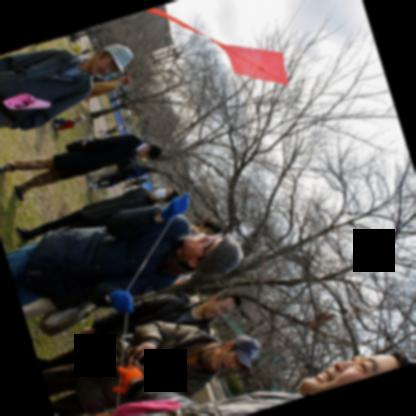handbag: (79, 339, 156, 377), (38, 301, 103, 338), (62, 136, 93, 151)
